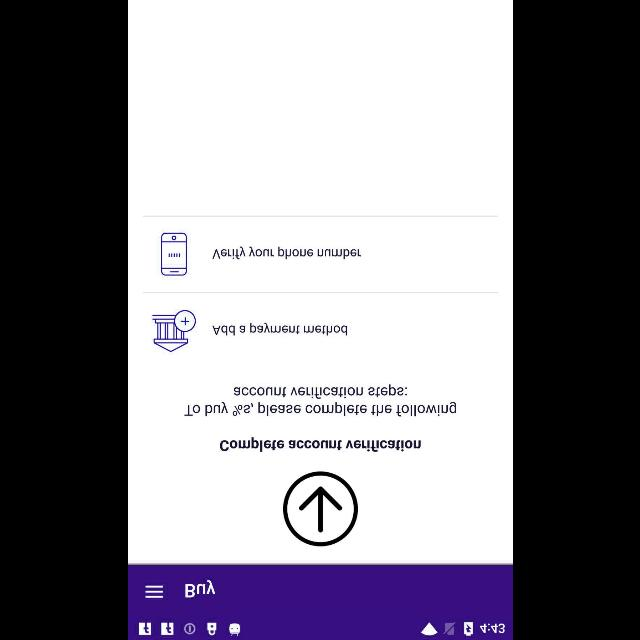icon: (282, 472, 358, 546), (151, 310, 195, 352), (145, 584, 163, 598)
image: (160, 232, 186, 276)
text: (183, 384, 455, 416), (218, 438, 420, 452), (212, 247, 361, 260), (212, 322, 346, 336), (184, 580, 216, 598)
toolbar: (128, 564, 512, 616)
uppertaskbar: (128, 617, 512, 639)
